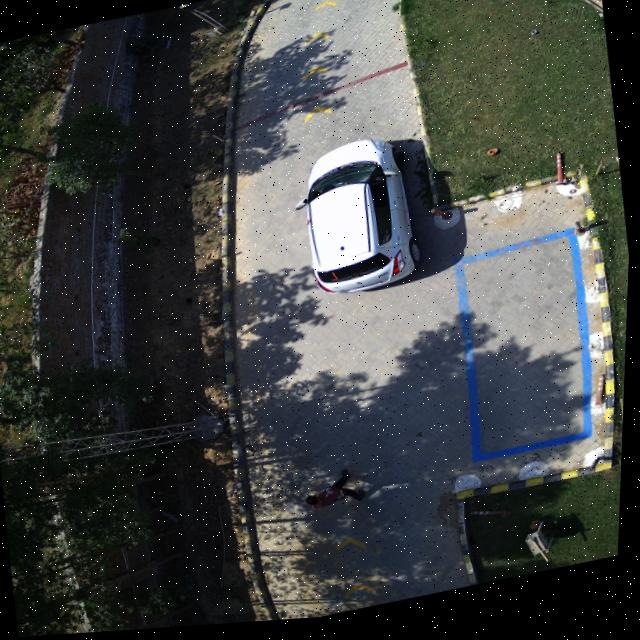car: (309, 144, 421, 297)
